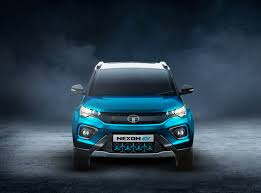Tata Nexon: (69, 58, 196, 172)
